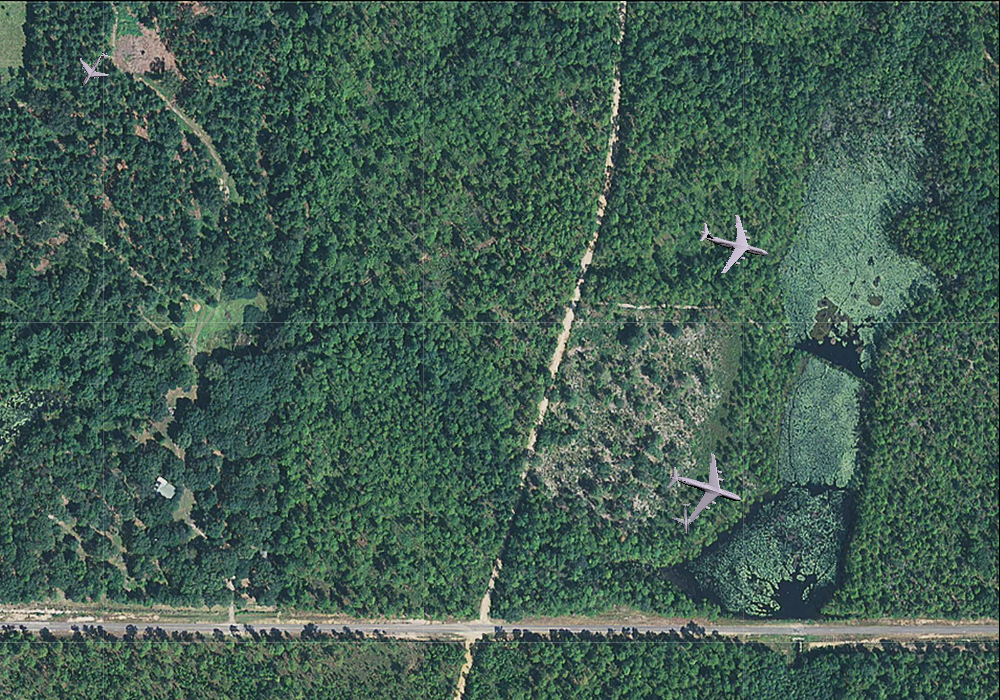plane: (657, 442, 752, 534), (691, 201, 776, 284), (67, 41, 120, 96), (670, 502, 702, 534)
